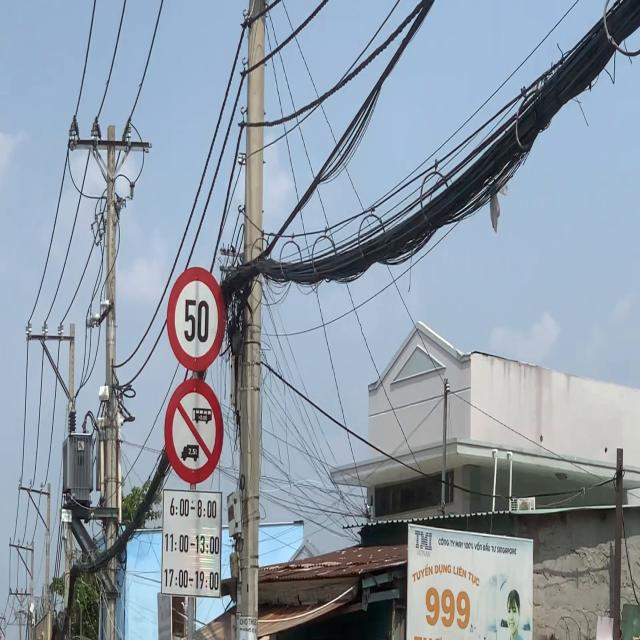Cam con lai: (163, 376, 224, 486)
Toc do toi da: (166, 266, 226, 372)
